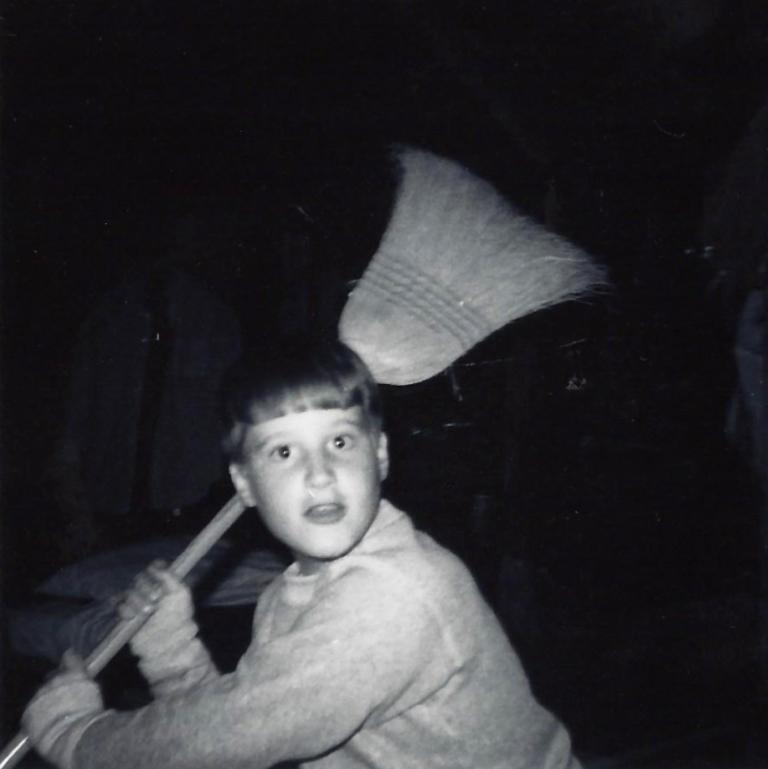Human-face: (258, 410, 369, 556)
